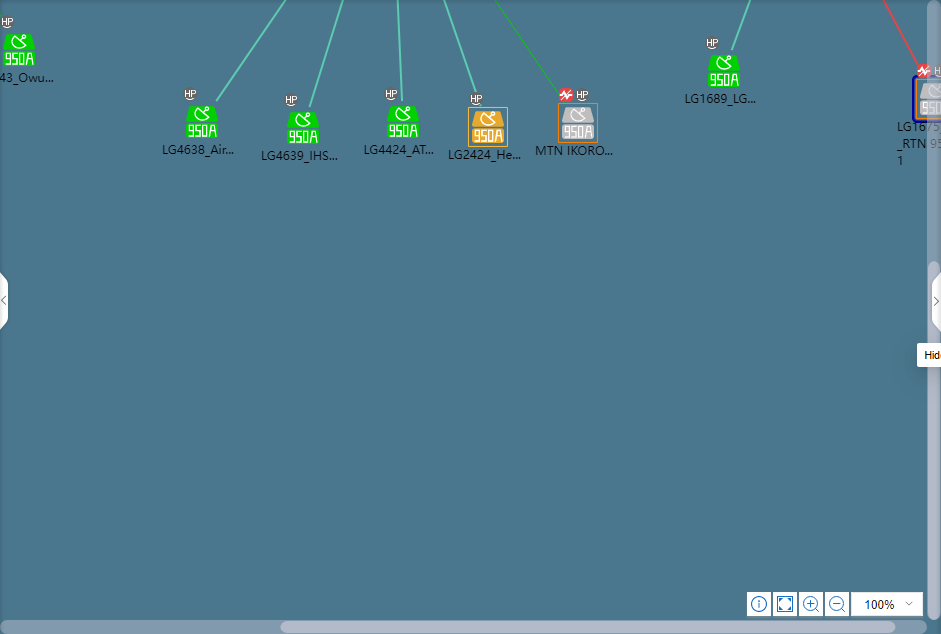Link_Blue: (215, 2, 282, 98), (444, 7, 484, 104), (309, 2, 341, 99), (732, 2, 754, 41)
Link_Green: (491, 0, 557, 94)
Link_Red: (879, 2, 917, 63)
RTN_Gray: (556, 102, 601, 141), (915, 79, 940, 124)
RTN_Green: (185, 108, 219, 142), (709, 55, 743, 89), (385, 108, 418, 142), (285, 114, 318, 148), (3, 32, 37, 64)
RTN_Yellow: (468, 108, 507, 148)
